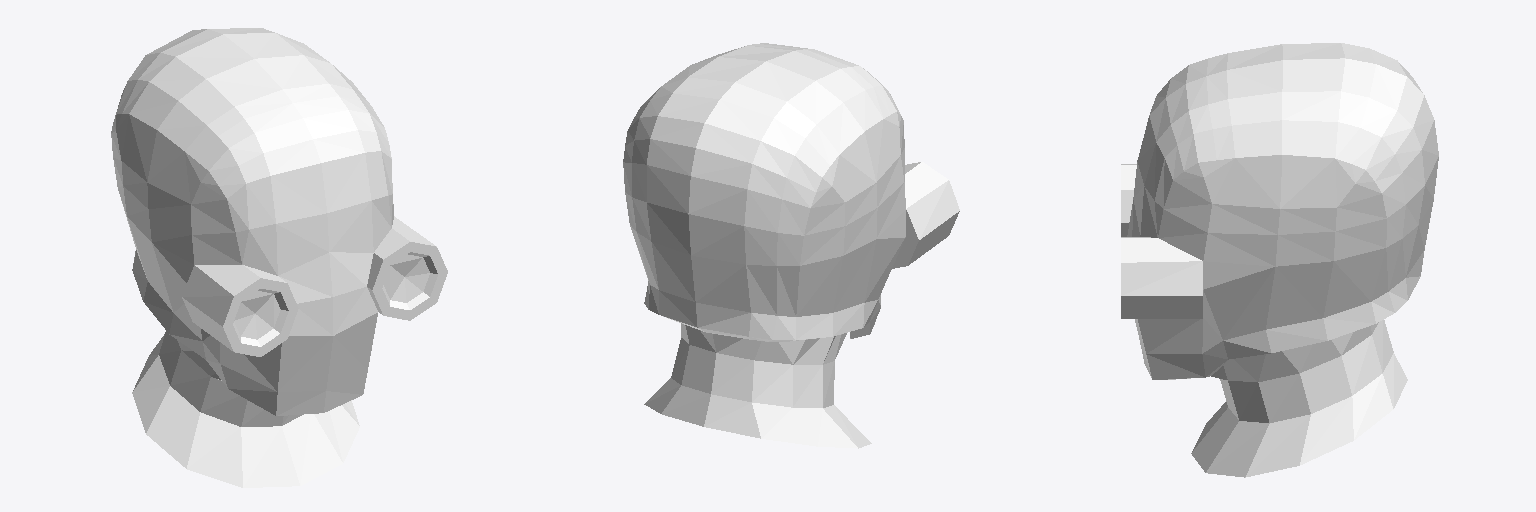
The model's file is RobotHead.obj.
3 views of the same model, side by side, from view 1: azimuth 30°, elevation 25°; view 2: azimuth 150°, elevation 25°; view 3: azimuth 270°, elevation 25° (orthographic).
Visible parts, largest first — view 1: RobotHead; view 2: RobotHead; view 3: RobotHead.
Boxes of the visible parts, <box> form: RobotHead: <box>111,28,447,487</box>; RobotHead: <box>623,43,959,448</box>; RobotHead: <box>1121,43,1438,477</box>.
Bounding box in the file's own units: 0.1807 × 0.303 × 0.2211.